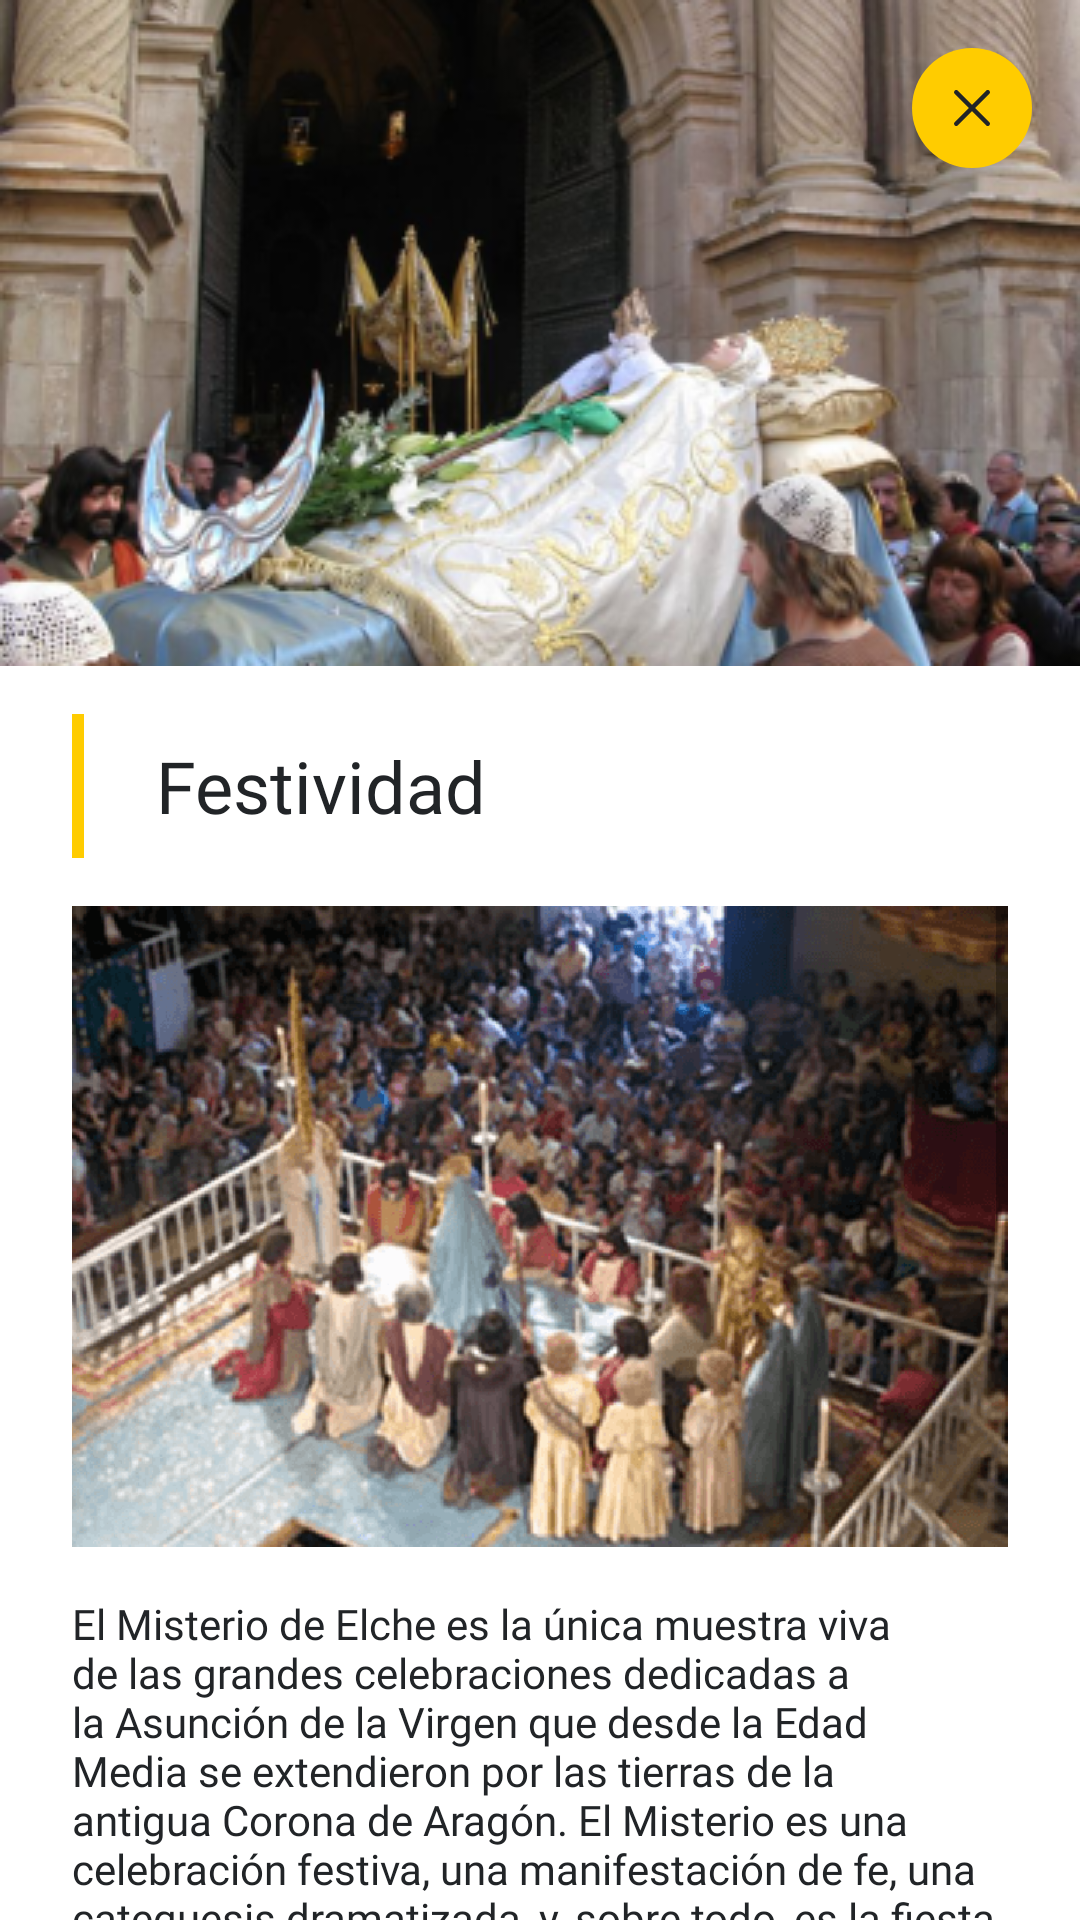

Named icons in this screenshot (1080px×1920px) and their centers, (x,y):
iconoir cancel: (972,108)
